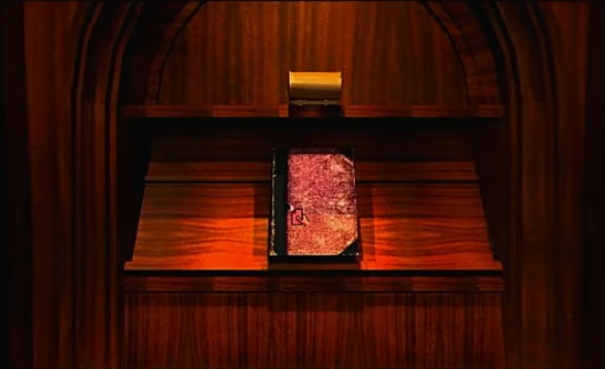Keep: (290, 207, 312, 227)
